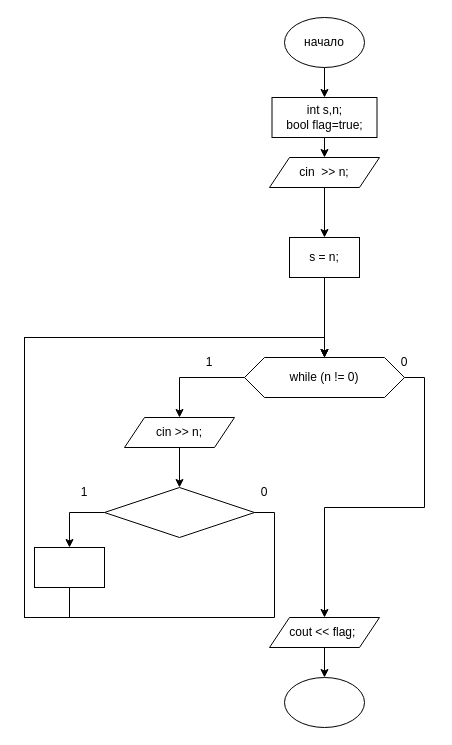
The diagram is 452 pixels wide and 745 high, and some of its shapes have lost their labels. Here are the shapes that lost their labels. From the top down, the centre of each, then its label:
At (x=179, y=512): "if (i % 3 != 0)".
At (x=69, y=567): "s = s + i;".
At (x=324, y=702): "конец".
